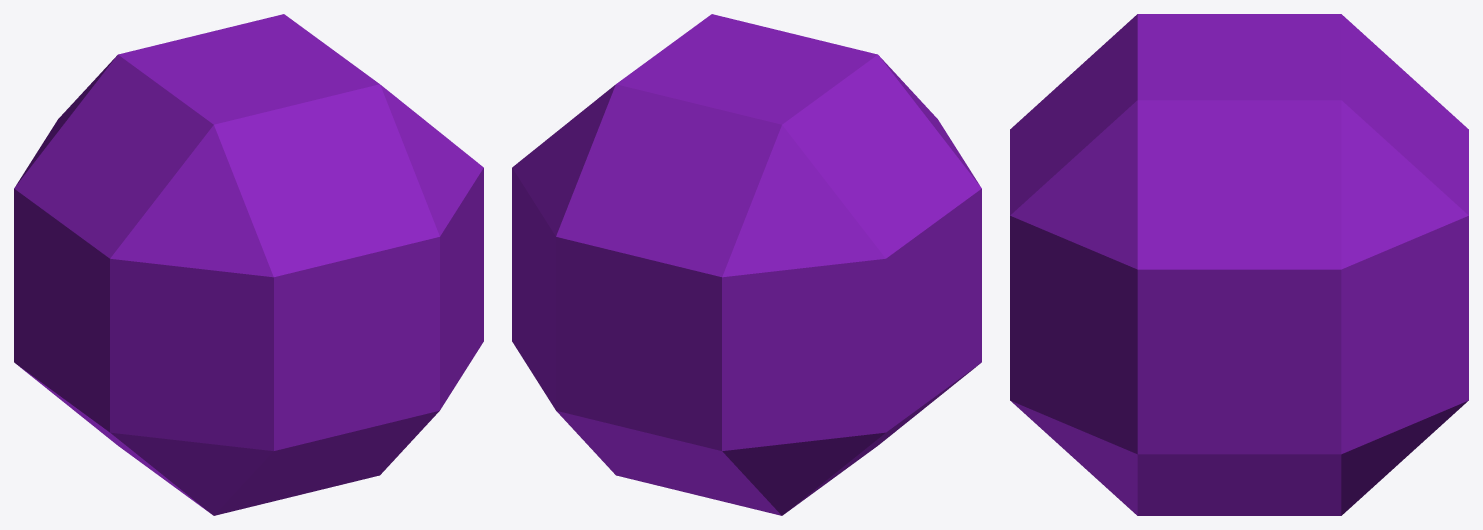
File: gfx_111.obj
3 views of the same model, side by side, from view 1: azimuth 30°, elevation 25°; view 2: azimuth 150°, elevation 25°; view 3: azimuth 270°, elevation 25° (orthographic). The views are drawn at different scales.
Bounding box in the file's own units: 0.1406 × 0.1406 × 0.1406.
